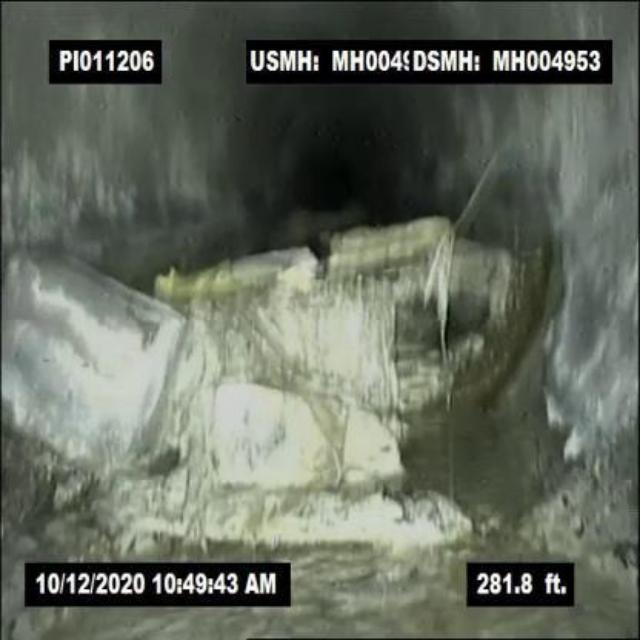Obstacle: (0, 208, 575, 532)
